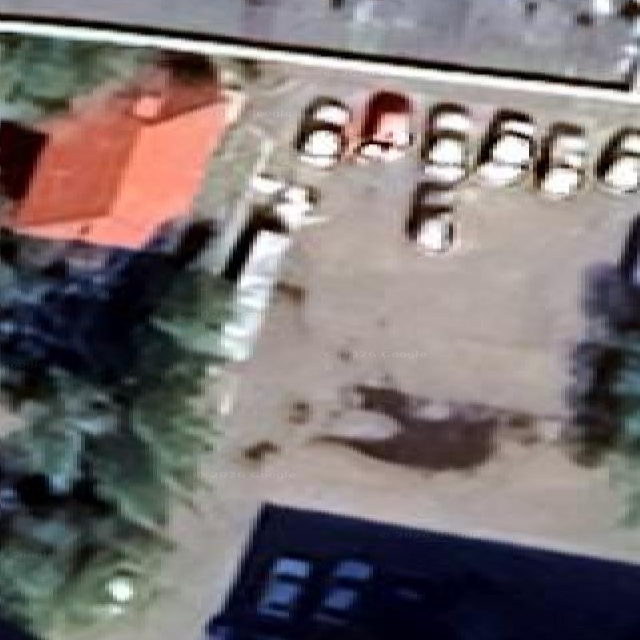car: (0, 218, 215, 379), (220, 203, 289, 360), (312, 557, 372, 635), (476, 108, 535, 186), (293, 96, 351, 167), (420, 103, 471, 183), (252, 172, 322, 230), (535, 123, 587, 198), (355, 91, 412, 159), (404, 180, 455, 252), (258, 557, 310, 616), (595, 128, 639, 191), (3, 230, 18, 247), (8, 255, 19, 270), (8, 251, 13, 252)
